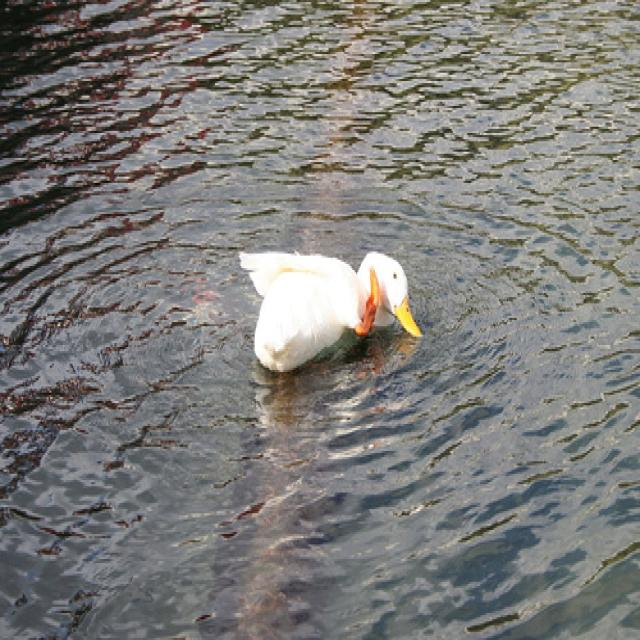bird: (237, 246, 425, 373)
